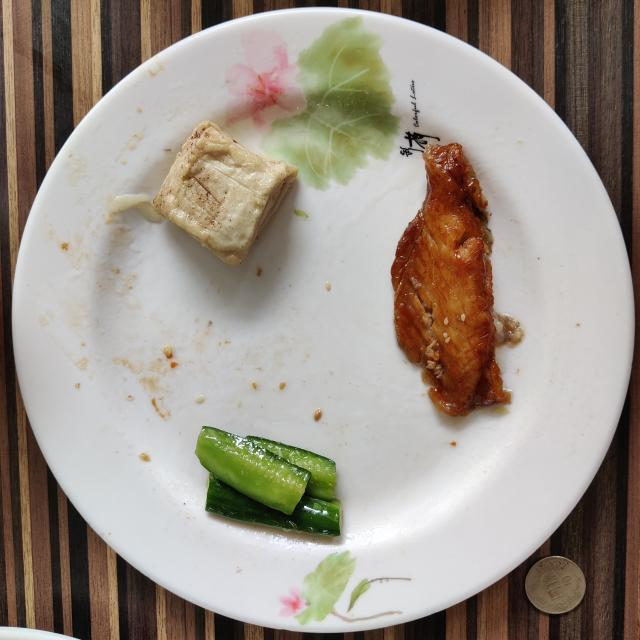Kabayaki sea bream fillet: (391, 144, 524, 416)
coin: (525, 556, 585, 614)
creamy tofu -without sauce-: (152, 121, 298, 265)
cucumber: (196, 426, 341, 536)
